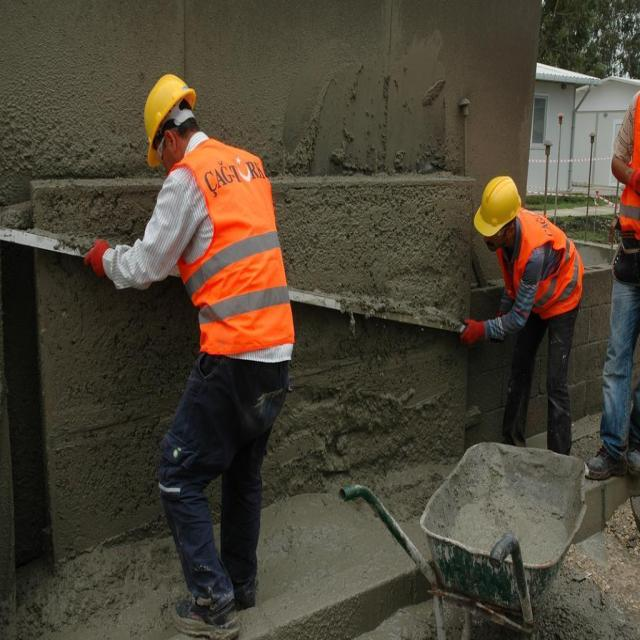Vest: (162, 134, 296, 377), (494, 203, 586, 323)
